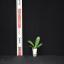leaf: (27, 41, 35, 48), (35, 37, 40, 48), (35, 43, 42, 48), (29, 46, 35, 49), (36, 47, 40, 48)
